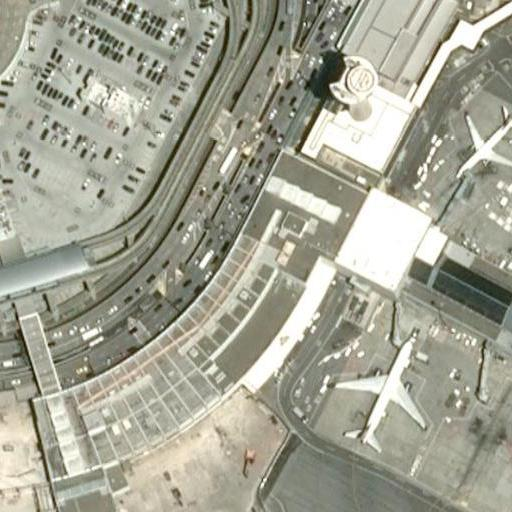Aircraft: (333, 333, 430, 451), (451, 105, 512, 177)
